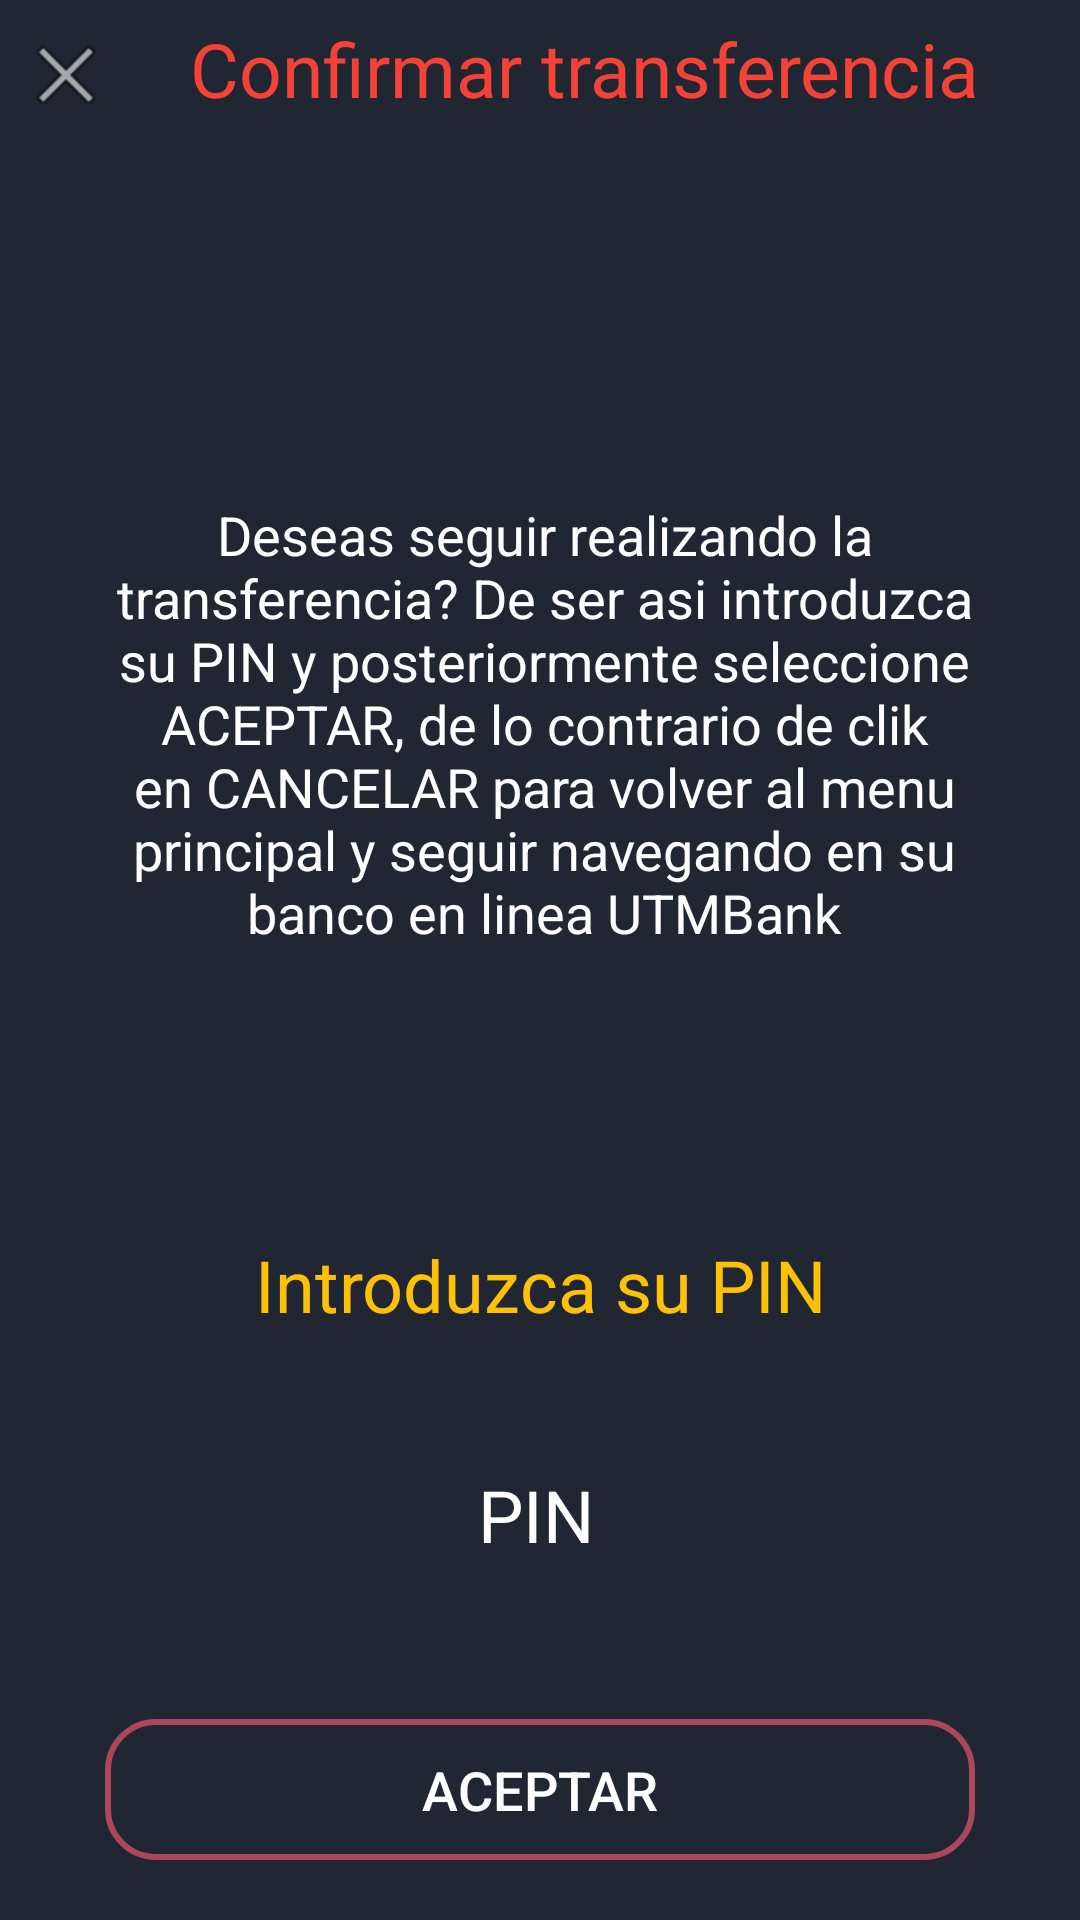

Screen size 1080 x 1920. Icon name, then its box in pixels as detection(x1, y1, x2, y2):
close clear cancel: detection(39, 48, 93, 102)
